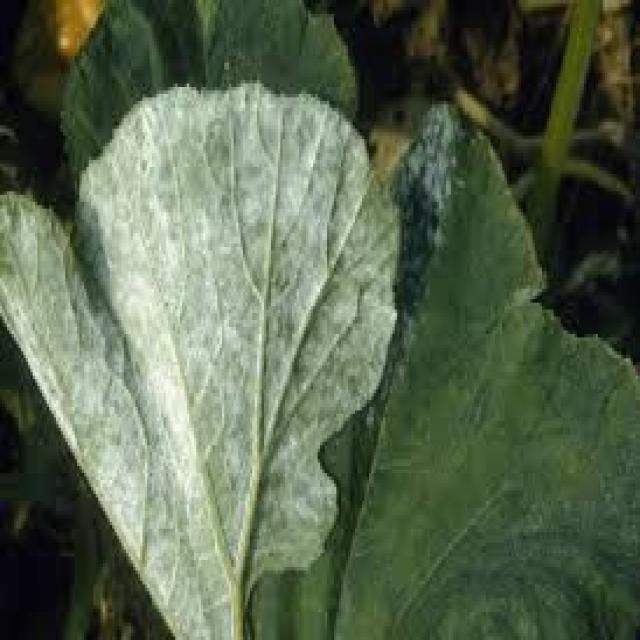powdery-mildew: (103, 143, 357, 574)
